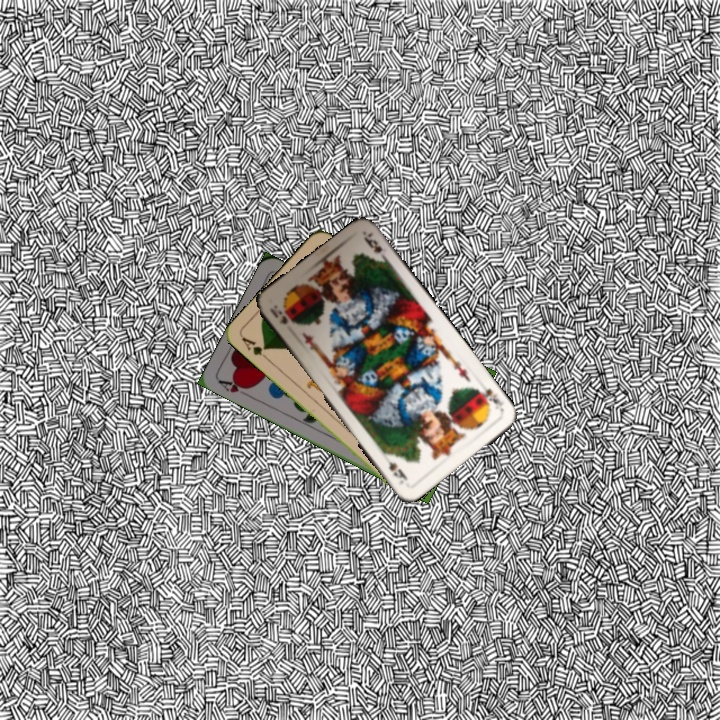GA: (238, 333, 272, 363)
HA: (215, 375, 254, 400)
SK: (472, 384, 503, 409), (265, 300, 291, 327)
